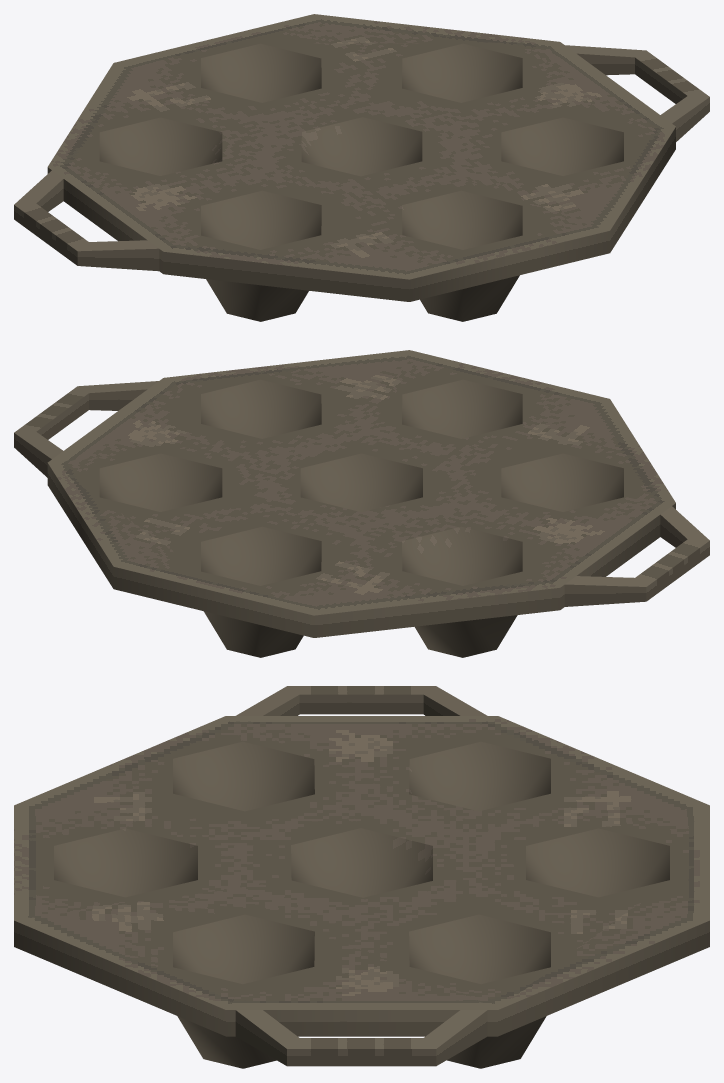
File: 009b_Takoyaki_Hotplate.glb
The picture shows the model from 3 angles, top to bottom: view 1: azimuth 30°, elevation 25°; view 2: azimuth 150°, elevation 25°; view 3: azimuth 270°, elevation 25°; orthographic projection. The views are drawn at different scales.
Parts seen in each view (by area): view 1: part_0; view 2: part_0; view 3: part_0.
Boxes of the visible parts, x1,y1,x2,y2 form: part_0: (14,14,709,321); part_0: (14,350,709,657); part_0: (14,686,709,1068).
Size of the model in its own units: 0.207 by 0.0265 by 0.1678.
Materials: 1 (1 with a texture image).
